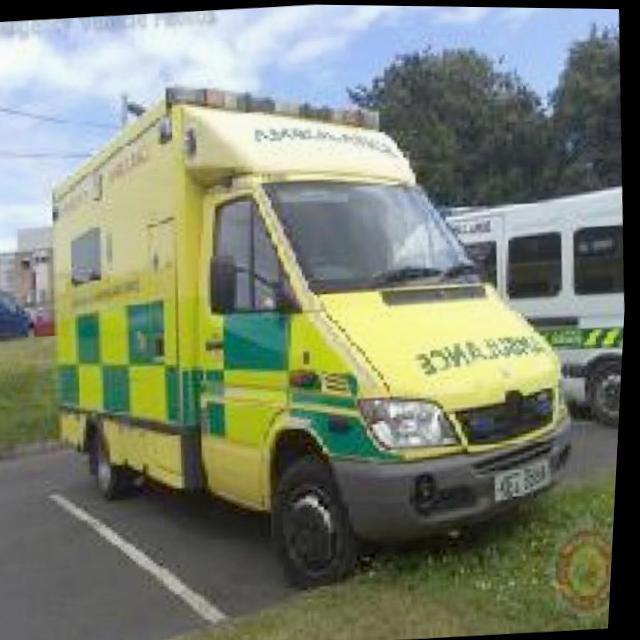emergency: (24, 52, 608, 613)
